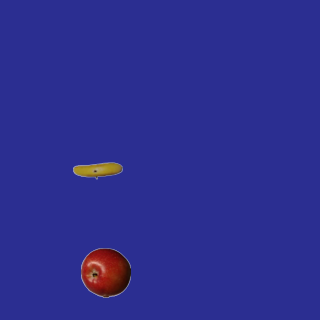Apple Braeburn: (80, 247, 130, 297)
Banana: (72, 145, 122, 195)
